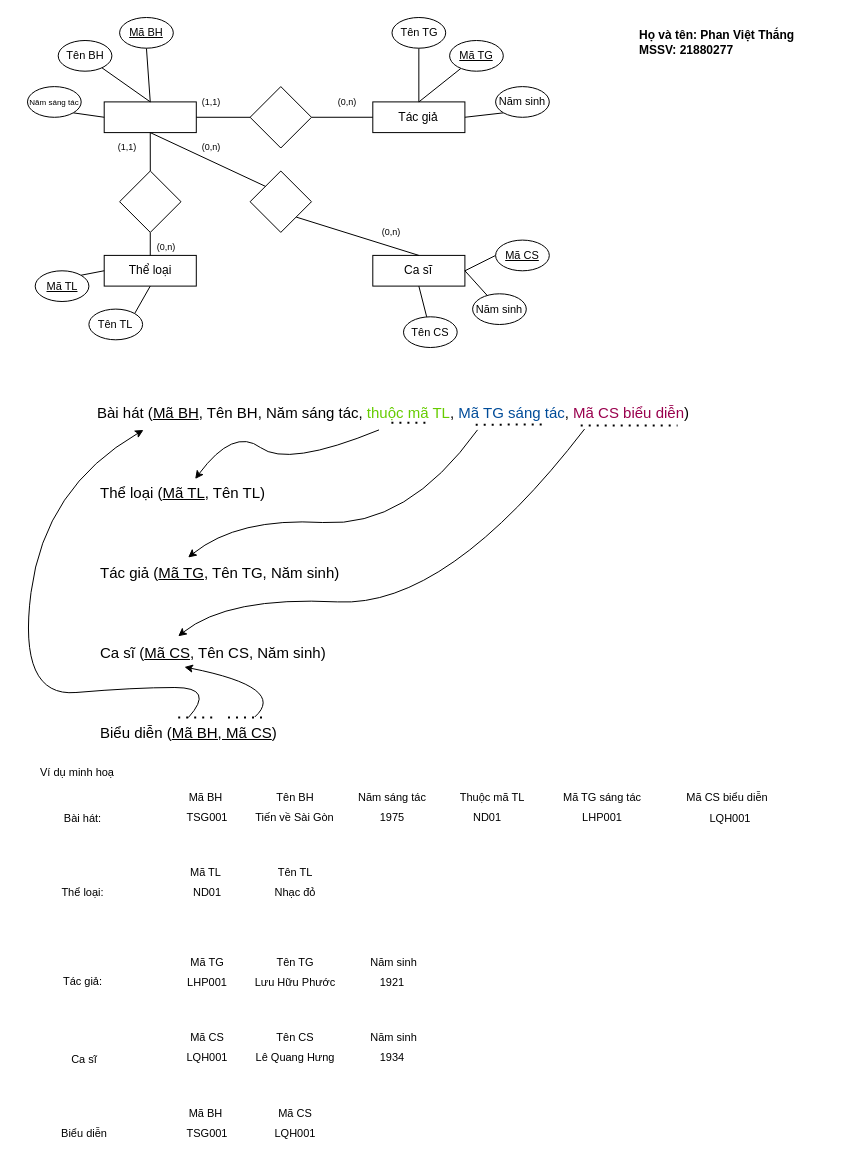
Some shapes in this 844 by 1166 pixel diagram are drawn without their labels. Here are the shapes that lost their labels. From the top down, the centre of each, then its label:
At point 149,117: "Bài hát".
At point 280,117: "sáng tác bởi".
At point 150,201: "thuộc".
At point 280,201: "biểu diễn bởi".
